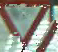Give way: (0, 0, 42, 44)
